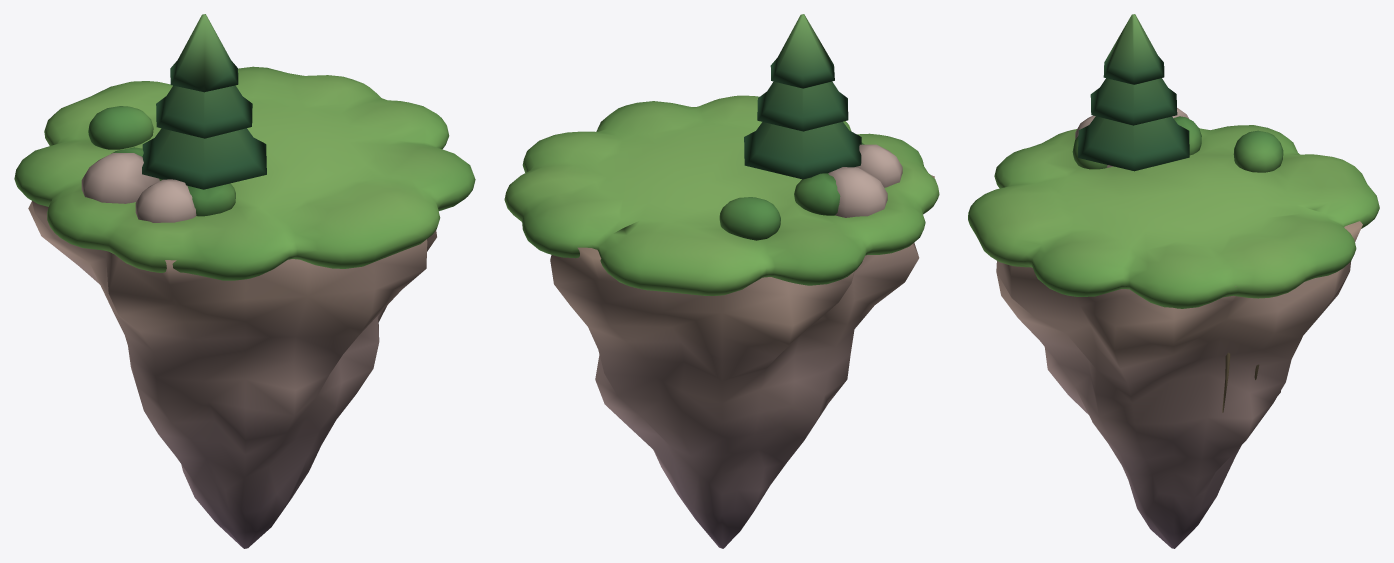
File: env_sky_islet_5.glb
The picture shows the model from 3 angles, left to right: view 1: azimuth 30°, elevation 25°; view 2: azimuth 150°, elevation 25°; view 3: azimuth 270°, elevation 25°; orthographic projection. The views are drawn at different scales.
Visible parts, largest first — view 1: SM_sky_sky_vc_x0_z0.034; view 2: SM_sky_sky_vc_x0_z0.034; view 3: SM_sky_sky_vc_x0_z0.034.
Boxes of the visible parts, x1,y1,x2,y2 form: SM_sky_sky_vc_x0_z0.034: [14, 14, 475, 548]; SM_sky_sky_vc_x0_z0.034: [504, 14, 939, 548]; SM_sky_sky_vc_x0_z0.034: [968, 14, 1379, 548].
Size of the model in its own units: 7.56 by 10.23 by 7.56.
